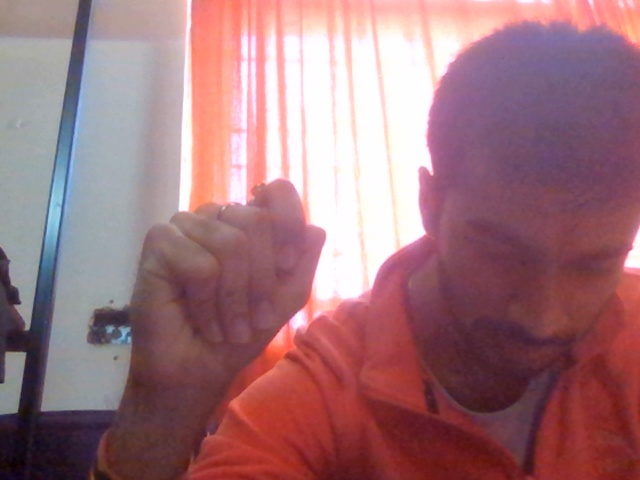T: (100, 161, 351, 446)
